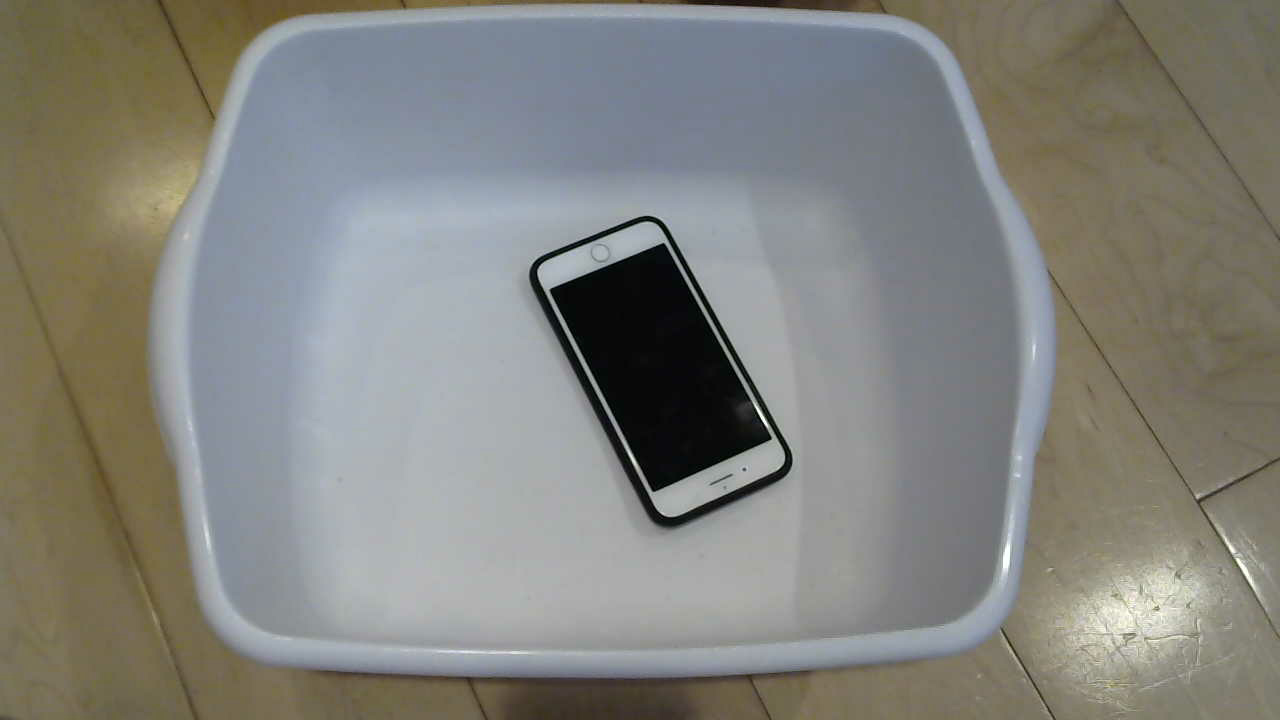phone: (521, 217, 800, 551)
